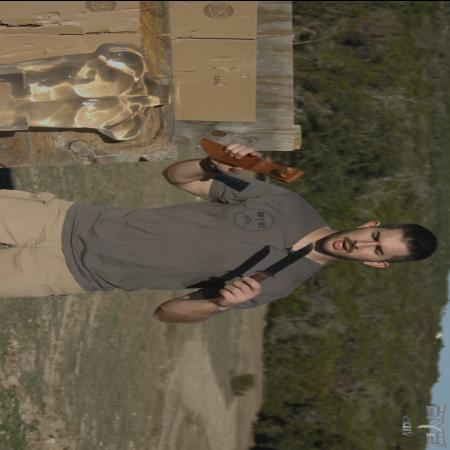long weapon: (223, 238, 325, 301)
